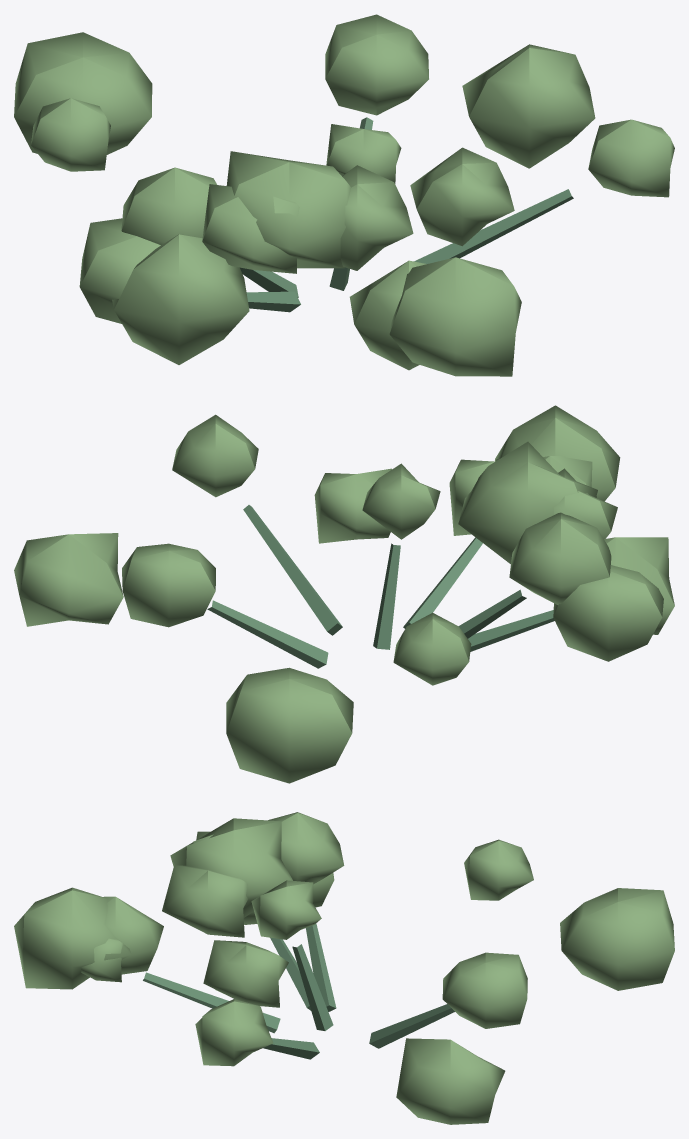
The model's file is bilberry-patch.glb.
3 renders of one model, top to bottom at view 1: azimuth 30°, elevation 25°; view 2: azimuth 150°, elevation 25°; view 3: azimuth 270°, elevation 25°, orthographic. The views are drawn at different scales.
Parts seen in each view (by area): view 1: bilberry-patch; view 2: bilberry-patch; view 3: bilberry-patch.
Part boxes in pixels (left/top/right/bottom): bilberry-patch: left=14, top=14, right=674, bottom=376; bilberry-patch: left=14, top=405, right=674, bottom=783; bilberry-patch: left=14, top=812, right=674, bottom=1124.
Bounding box in the file's own units: 1.38 × 0.4255 × 1.57.
